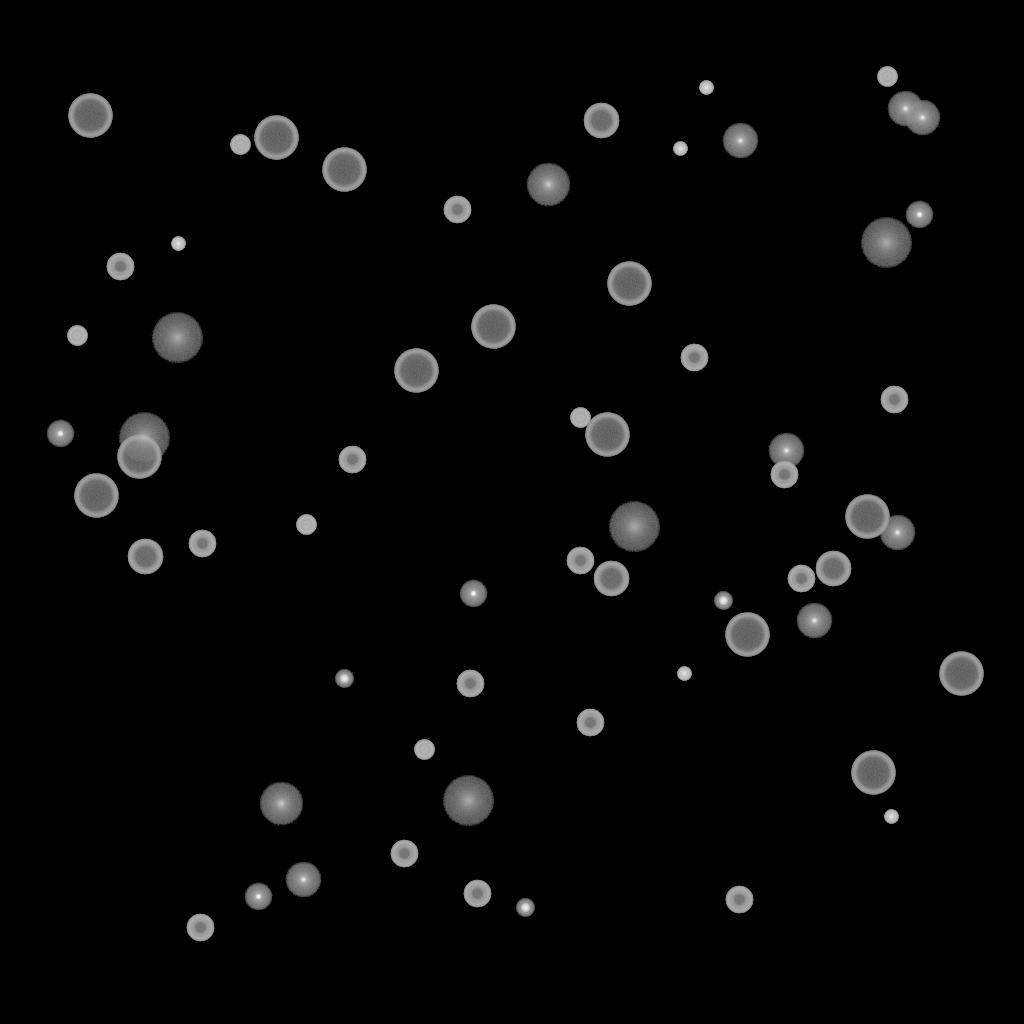depth:-10: (459, 580, 487, 608), (905, 201, 933, 229), (46, 420, 74, 448), (244, 883, 272, 911)
depth:-20: (714, 592, 732, 610), (516, 899, 534, 917), (335, 670, 353, 688)
depth:-30: (171, 237, 185, 251), (673, 142, 687, 156), (699, 81, 713, 95), (677, 667, 691, 681), (884, 810, 898, 824)
depth:-40: (230, 135, 250, 155), (296, 515, 316, 535), (414, 740, 434, 760), (877, 67, 897, 87), (67, 326, 87, 346), (570, 408, 590, 428)
depth:-50: (338, 446, 366, 474), (770, 461, 798, 489), (106, 253, 134, 281), (787, 565, 815, 593), (390, 840, 418, 868), (680, 344, 708, 372), (463, 880, 491, 908), (443, 196, 471, 224), (576, 709, 604, 737), (880, 386, 908, 414), (566, 547, 594, 575), (186, 914, 214, 942), (456, 670, 484, 698), (188, 530, 216, 558), (725, 886, 753, 914)
depth:-60: (593, 561, 629, 597), (583, 103, 619, 139), (127, 539, 163, 575), (815, 551, 851, 587)
depth:-70: (322, 148, 366, 192), (851, 751, 895, 795), (68, 94, 112, 138), (74, 474, 118, 518), (845, 495, 889, 539), (117, 435, 161, 479), (607, 262, 651, 306), (254, 116, 298, 160), (471, 305, 515, 349), (939, 652, 983, 696), (585, 413, 629, 457), (725, 613, 769, 657), (394, 349, 438, 393)
depth:0: (879, 515, 915, 551), (904, 100, 940, 136), (285, 862, 321, 898), (887, 91, 923, 127), (796, 603, 832, 639), (722, 123, 758, 159), (768, 433, 804, 469)
depth:10: (526, 163, 570, 207), (259, 782, 303, 826)
depth:20: (442, 776, 494, 826), (608, 502, 660, 552), (860, 218, 912, 268), (118, 413, 170, 463), (151, 313, 203, 363)
